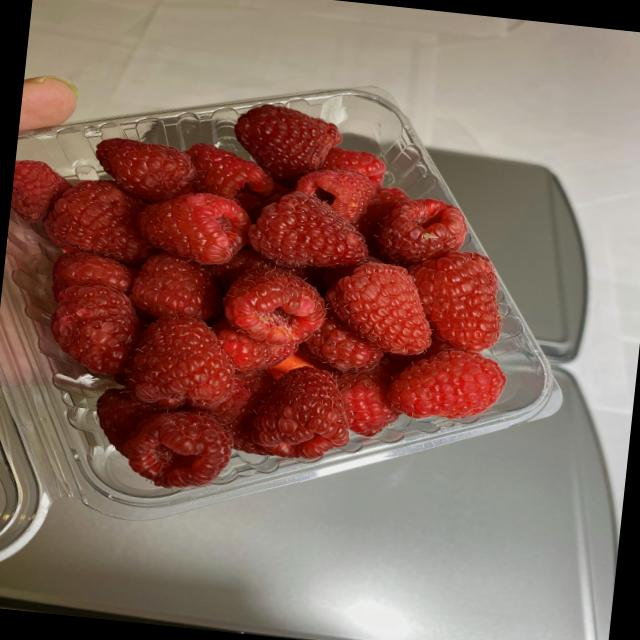raspberries: (11, 133, 508, 459)
